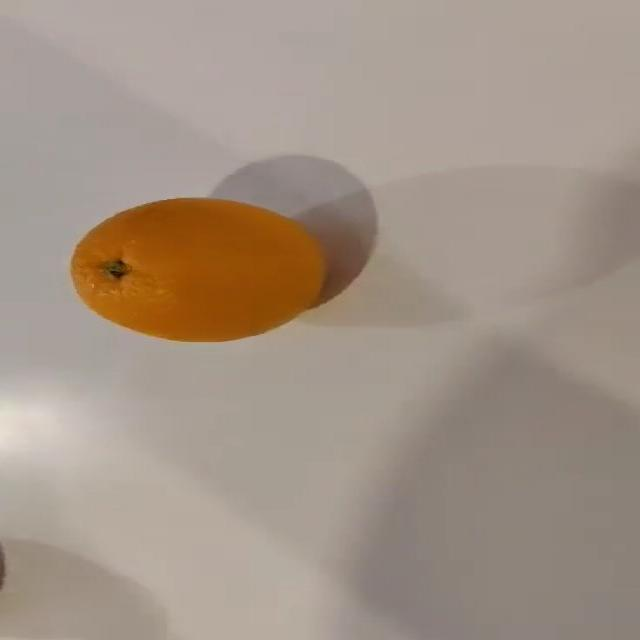Orange: (69, 195, 328, 343)
